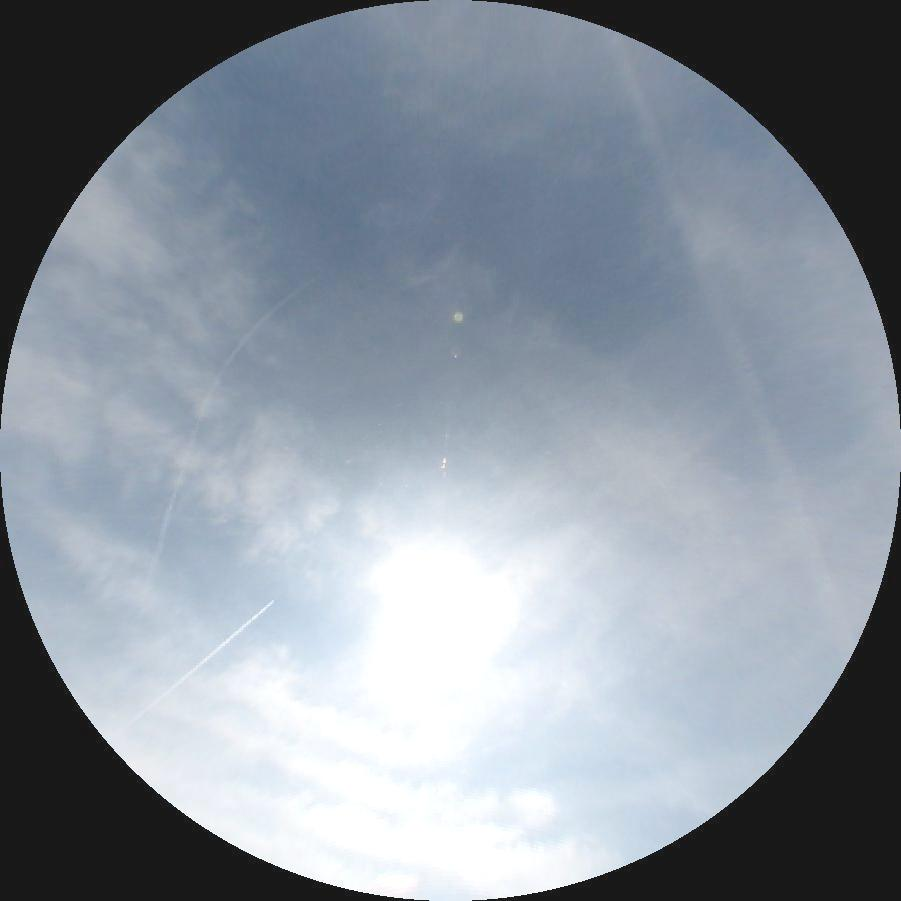contrail old: (599, 21, 868, 663)
contrail young: (110, 256, 318, 591), (135, 598, 276, 719)
sun: (384, 570, 487, 685)
